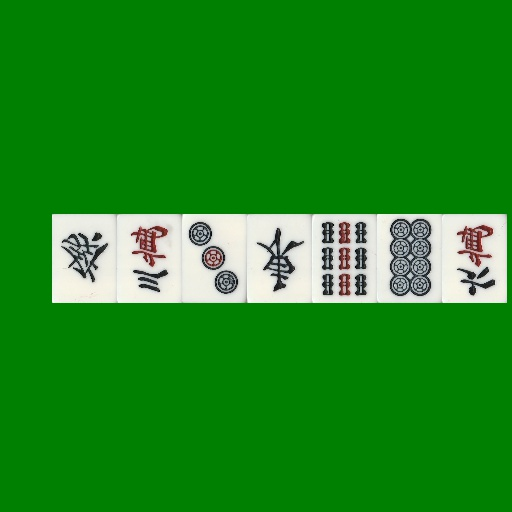3m: (117, 214, 182, 303)
3p: (182, 214, 247, 303)
6m: (442, 214, 507, 303)
8p: (377, 214, 442, 303)
9s: (312, 214, 377, 303)
east: (247, 214, 312, 303)
hatsu: (52, 214, 117, 303)
